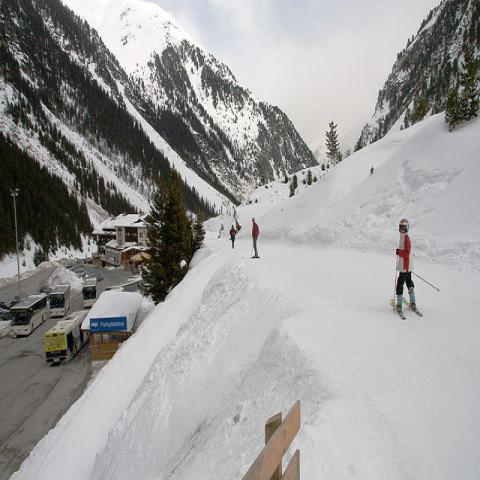bus: (45, 309, 91, 365), (10, 294, 47, 337), (49, 281, 70, 317), (82, 277, 97, 308)
